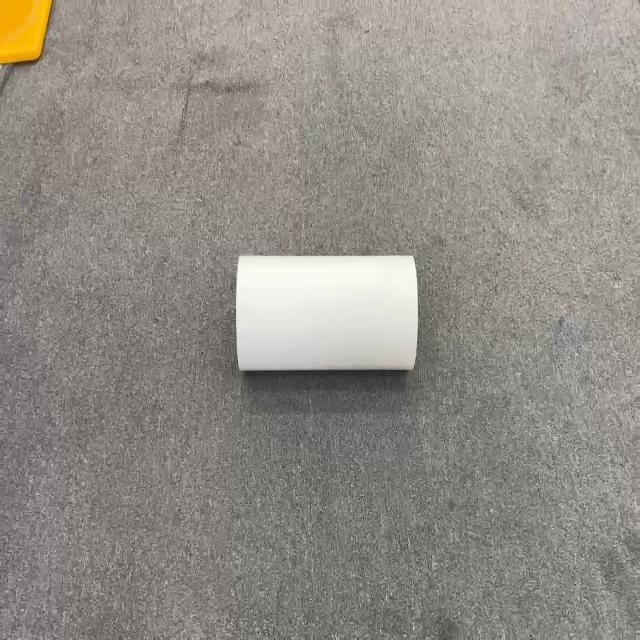coral: (235, 252, 419, 374)
